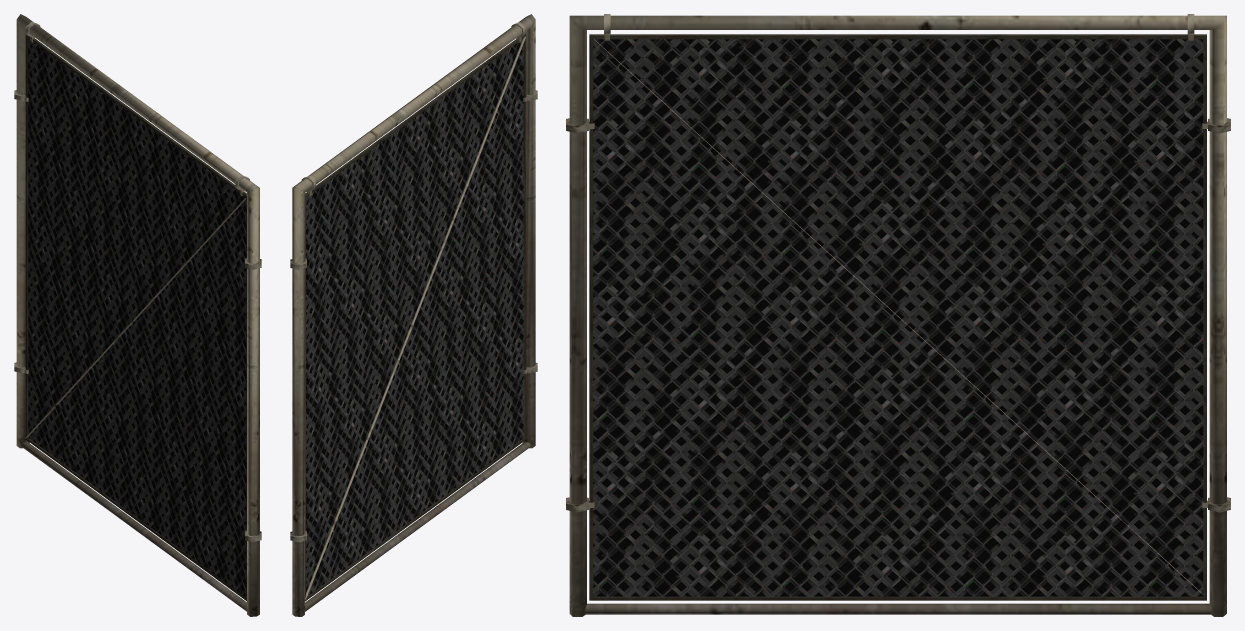
Rendered from interior_fence002c.glb.
3 views of the same model, side by side, from view 1: azimuth 30°, elevation 25°; view 2: azimuth 150°, elevation 25°; view 3: azimuth 270°, elevation 25° (orthographic). The views are drawn at different scales.
Visible parts, largest first — view 1: 1_fence_alpha, 0_prison_yard001; view 2: 1_fence_alpha, 0_prison_yard001; view 3: 1_fence_alpha, 0_prison_yard001.
Part boxes in pixels (x1=…): 1_fence_alpha: x1=28, y1=38, x2=246, y2=596; 0_prison_yard001: x1=14, y1=14, x2=261, y2=616; 1_fence_alpha: x1=306, y1=39, x2=523, y2=595; 0_prison_yard001: x1=290, y1=14, x2=537, y2=616; 1_fence_alpha: x1=593, y1=39, x2=1203, y2=596; 0_prison_yard001: x1=566, y1=14, x2=1230, y2=616.
Bounding box in the file's own units: 0.1313 × 3.27 × 3.28.
Materials: 2 (2 with a texture image).
